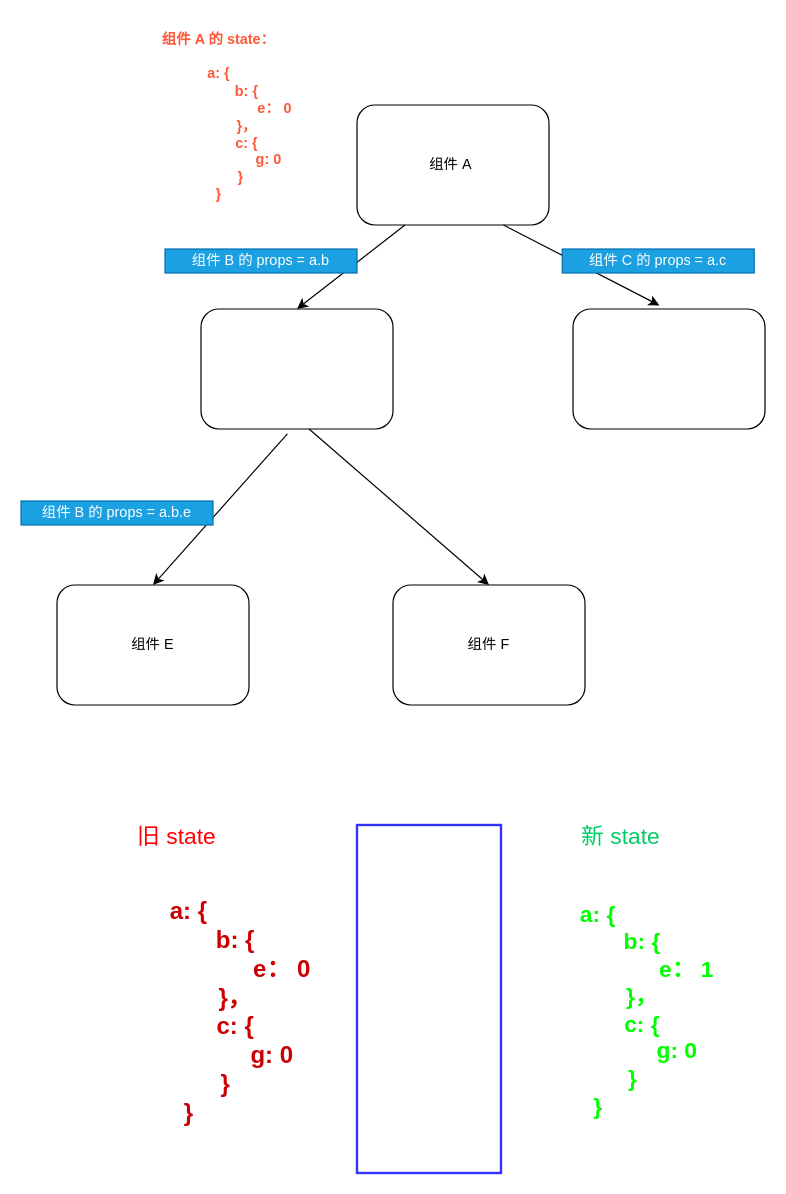
The diagram is 786 pixels wide and 1194 high, and some of its shapes have lost their labels. Here are the shapes that lost their labels. From the top down, the centre of each, then its label:
At point 296,368: "组件 B".
At point 668,368: "组件 C".
